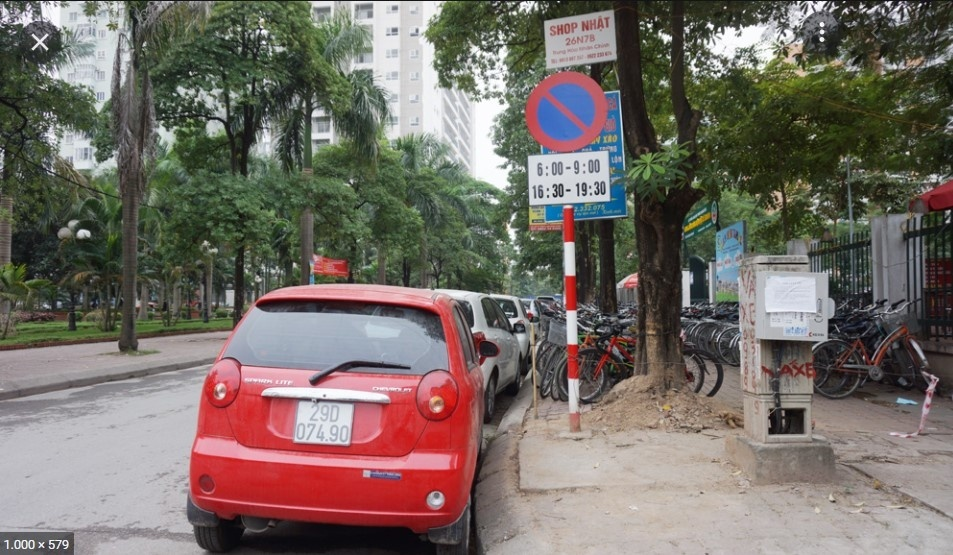Cam do xe: (525, 71, 610, 153)
